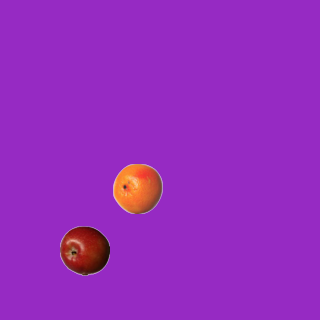Apple Braeburn: (59, 225, 109, 275)
Grapefruit Pink: (112, 163, 162, 213)
